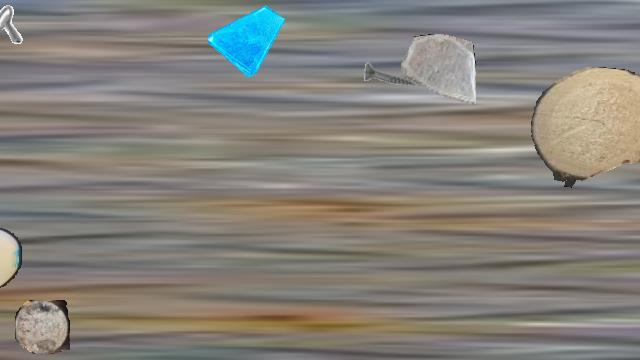glass: (208, 1, 284, 77), (401, 34, 475, 108)
metal: (362, 43, 424, 105), (0, 1, 24, 63)
plastic: (0, 225, 22, 317)
wood: (531, 67, 640, 189), (15, 300, 69, 354)
